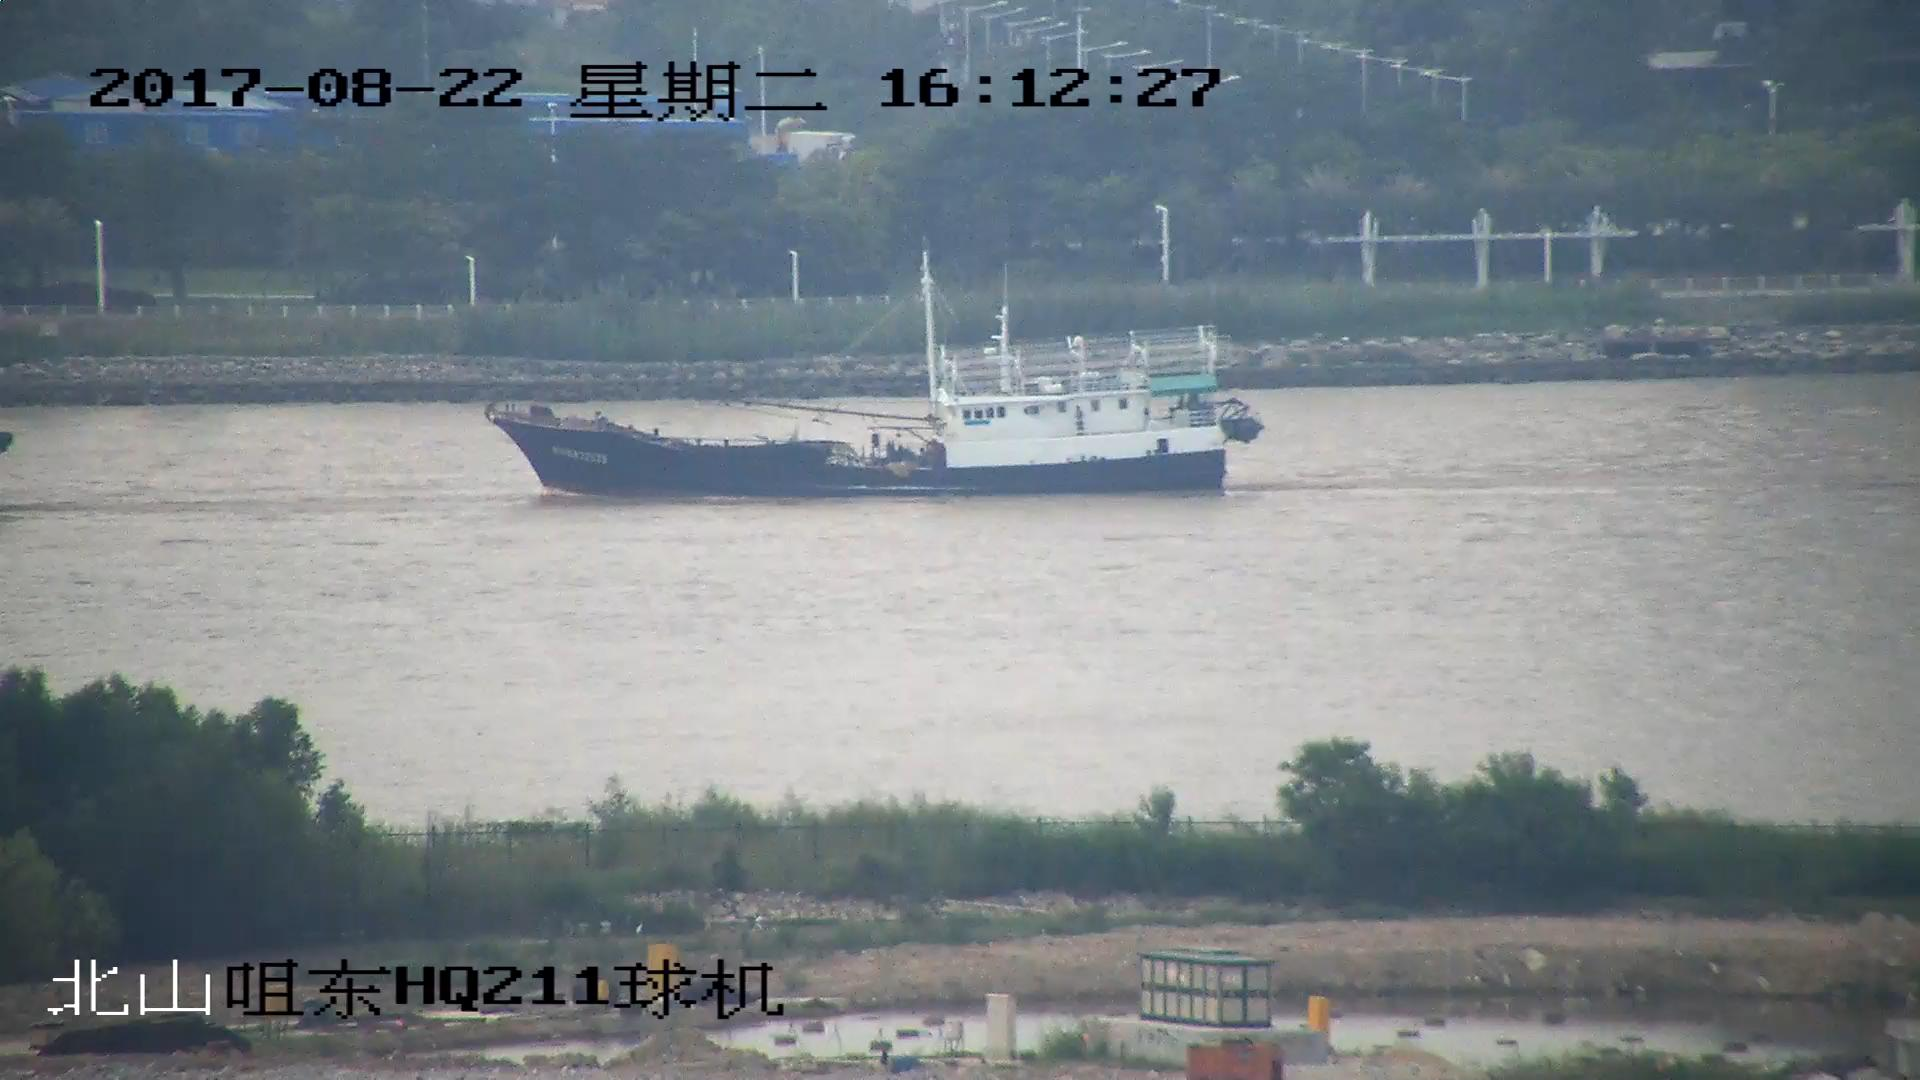fishing boat: (490, 269, 1256, 500)
